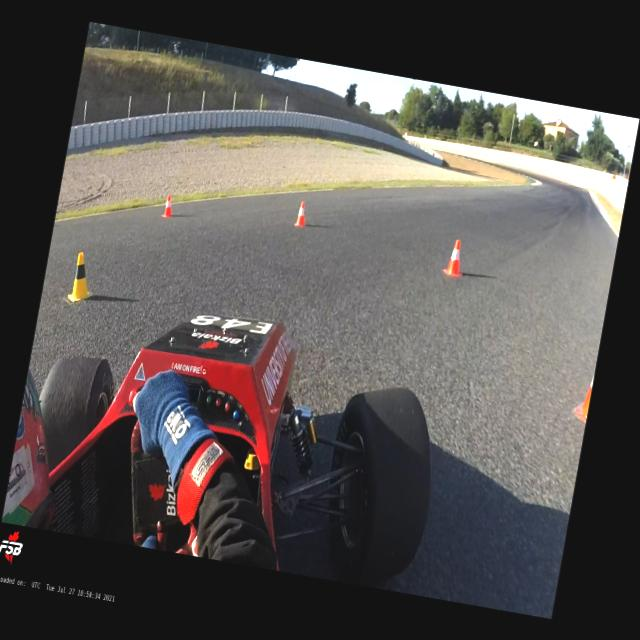orange_cone: (572, 370, 594, 422), (442, 238, 468, 278), (293, 200, 309, 228), (161, 194, 176, 218)
yellow_cone: (66, 251, 99, 305)
